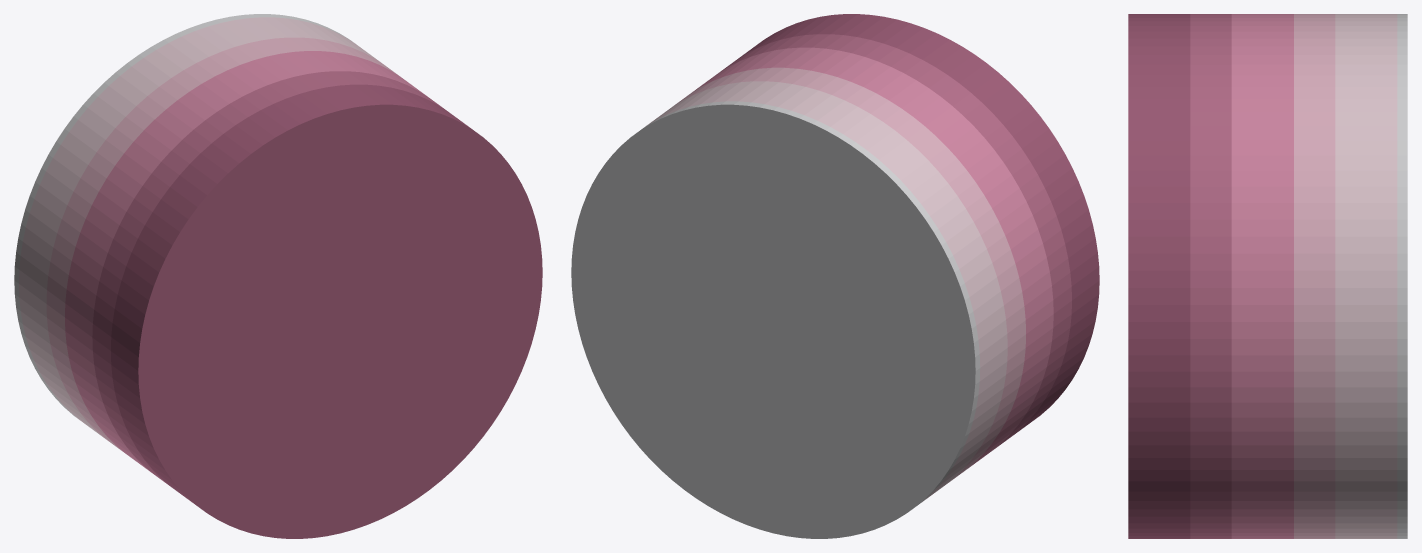
The model's file is cake_10in_layers3.glb.
3 renders of one model, left to right at view 1: azimuth 30°, elevation 25°; view 2: azimuth 150°, elevation 25°; view 3: azimuth 270°, elevation 25°, orthographic. The views are drawn at different scales.
Parts seen in each view (by area): view 1: geometry_4, geometry_2, geometry_0, geometry_3, geometry_1, geometry_5; view 2: geometry_5, geometry_0, geometry_2, geometry_4, geometry_1, geometry_3; view 3: geometry_0, geometry_2, geometry_4, geometry_1, geometry_3, geometry_5.
Part boxes in pixels (x1,y1,x2,y2): geometry_4: (111,84,542,538); geometry_2: (65,51,426,471); geometry_0: (19,17,379,437); geometry_3: (92,71,443,485); geometry_1: (46,37,398,451); geometry_5: (14,14,352,417); geometry_5: (571,101,980,538); geometry_0: (646,81,1007,501); geometry_2: (693,47,1053,468); geometry_4: (738,14,1099,434); geometry_1: (674,67,1025,481); geometry_3: (720,34,1071,448); geometry_0: (1335,14,1397,538); geometry_2: (1231,14,1293,538); geometry_4: (1128,14,1190,538); geometry_1: (1294,14,1335,538); geometry_3: (1190,14,1231,538); geometry_5: (1397,14,1407,538).
Bounding box in the file's own units: 0.254 × 0.254 × 0.135.
